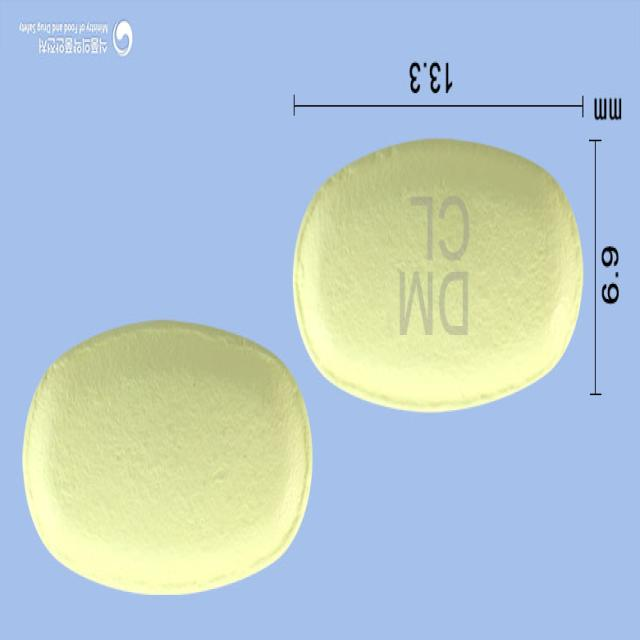Claricin - 250mg: (21, 318, 313, 600), (291, 136, 583, 412)
